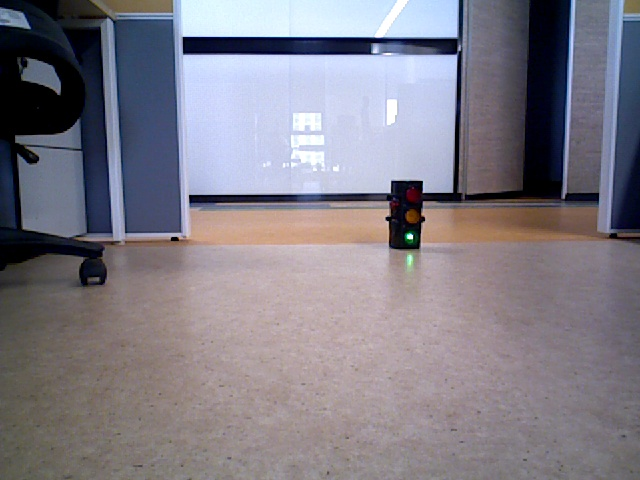green: (392, 180, 420, 244)
